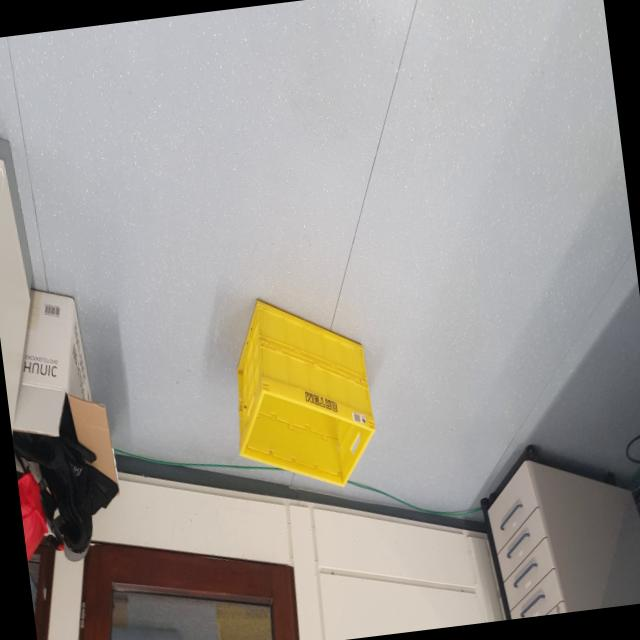box: (212, 264, 392, 506)
